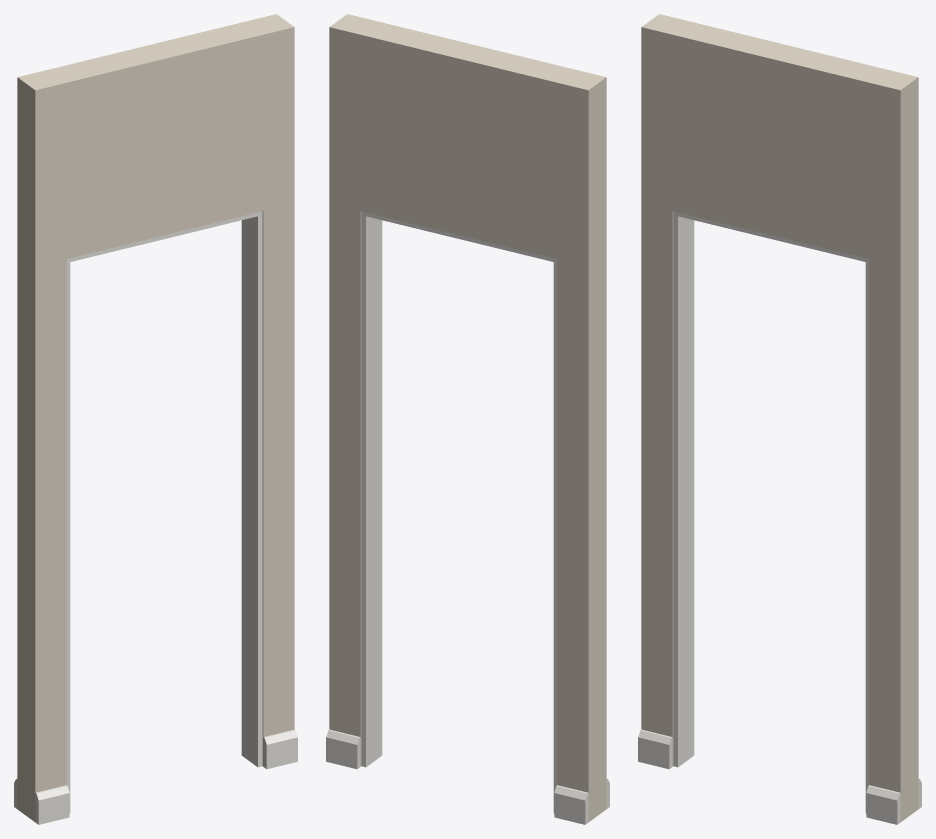
Rendered from SM_LPI_Struct_Doorway_01.fbx.
The picture shows the model from 3 angles, left to right: view 1: azimuth 30°, elevation 25°; view 2: azimuth 150°, elevation 25°; view 3: azimuth 330°, elevation 25°; orthographic projection.
Parts seen in each view (by area): view 1: SM_LPI_Struct_Doorway_01; view 2: SM_LPI_Struct_Doorway_01; view 3: SM_LPI_Struct_Doorway_01.
Part boxes in pixels (x1=…): SM_LPI_Struct_Doorway_01: x1=14, y1=14, x2=297, y2=824; SM_LPI_Struct_Doorway_01: x1=326, y1=14, x2=609, y2=824; SM_LPI_Struct_Doorway_01: x1=638, y1=14, x2=921, y2=824.
Size of the model in its own units: 1 by 2.7 by 0.164.
